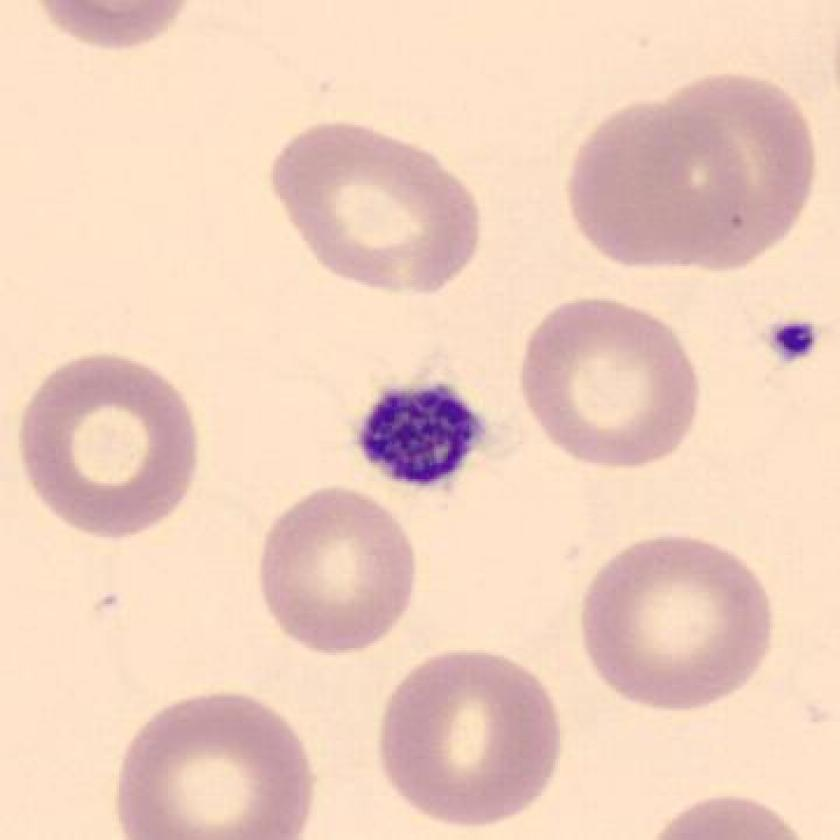platelets: (349, 373, 493, 494), (757, 313, 834, 369)
